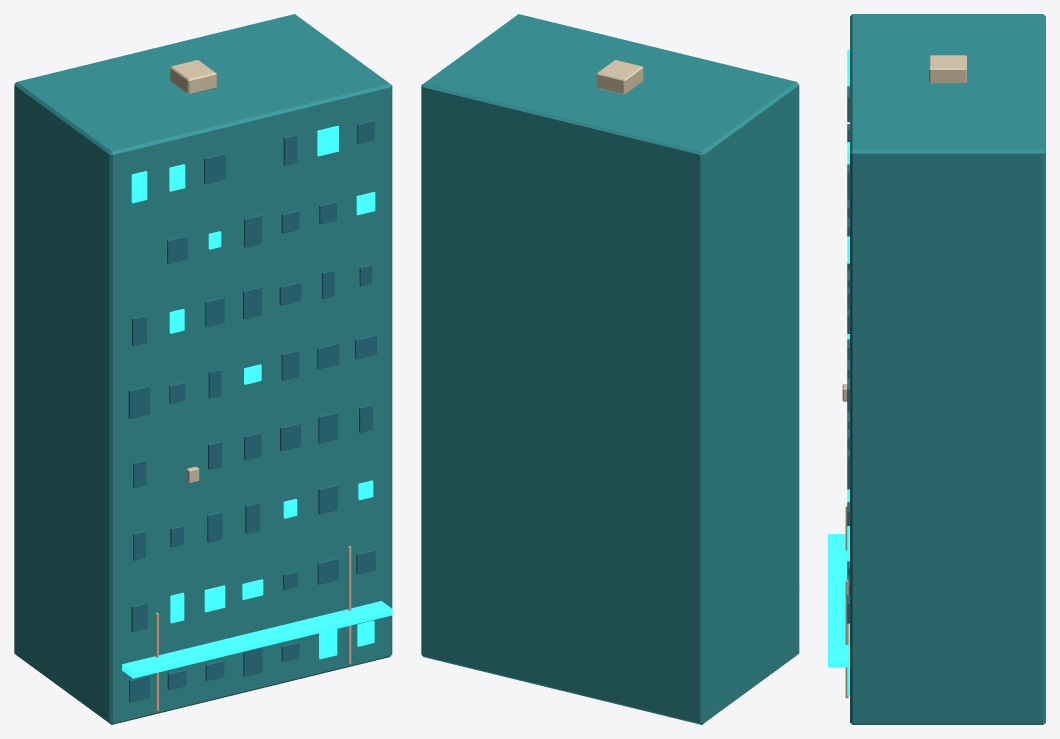
Rendered from building_040_seed11.glb.
3 views of the same model, side by side, from view 1: azimuth 30°, elevation 25°; view 2: azimuth 150°, elevation 25°; view 3: azimuth 270°, elevation 25° (orthographic).
Parts seen in each view (by area): view 1: building_040_seed11; view 2: building_040_seed11; view 3: building_040_seed11.
Boxes of the visible parts, x1=… form: building_040_seed11: x1=14, y1=14, x2=392, y2=724; building_040_seed11: x1=421, y1=14, x2=799, y2=724; building_040_seed11: x1=828, y1=14, x2=1045, y2=724.
Size of the model in its own units: 9.51 by 18.91 by 6.33.
